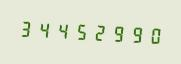five: (71, 19, 88, 43)
four: (35, 17, 52, 41), (53, 18, 70, 42)
nine: (107, 20, 124, 45), (125, 21, 142, 46)
three: (17, 16, 34, 41)
two: (89, 19, 106, 44)
zero: (143, 22, 160, 47)
